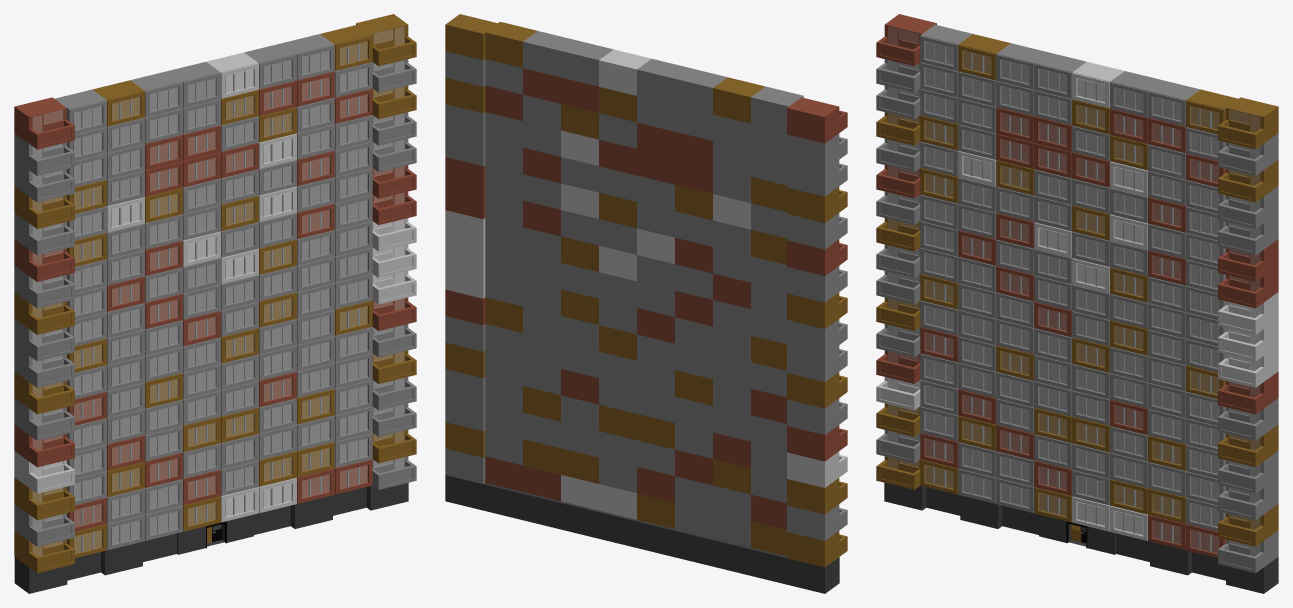
The model's file is panelka.fbx.
3 views of the same model, side by side, from view 1: azimuth 30°, elevation 25°; view 2: azimuth 150°, elevation 25°; view 3: azimuth 330°, elevation 25° (orthographic).
Visible parts, largest first — view 1: Cube.001; view 2: Cube.001; view 3: Cube.001.
Part boxes in pixels (bbox=[...]): Cube.001: bbox=[14, 14, 416, 593]; Cube.001: bbox=[445, 14, 847, 593]; Cube.001: bbox=[876, 14, 1278, 593].
Size of the model in its own units: 3663 by 380 by 4396.
